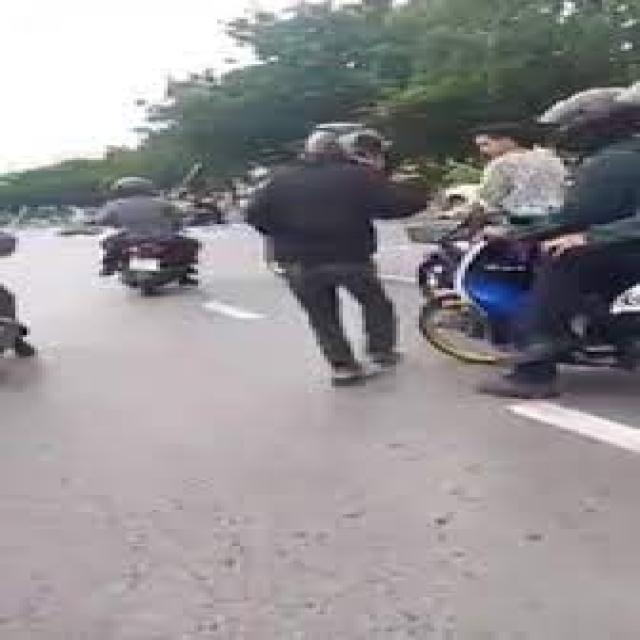helmet: (533, 88, 640, 154), (306, 119, 398, 169), (111, 177, 164, 197)
